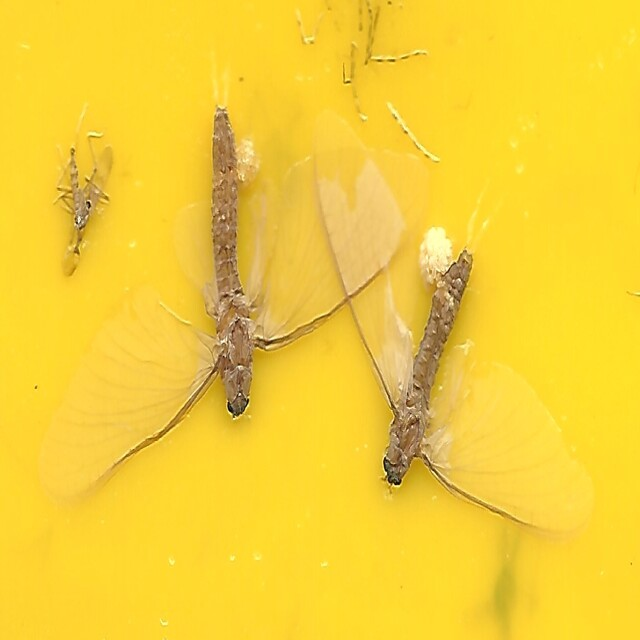Ephemeroptera: (51, 100, 429, 493), (313, 129, 589, 540)
Nematocera: (61, 133, 112, 272)
